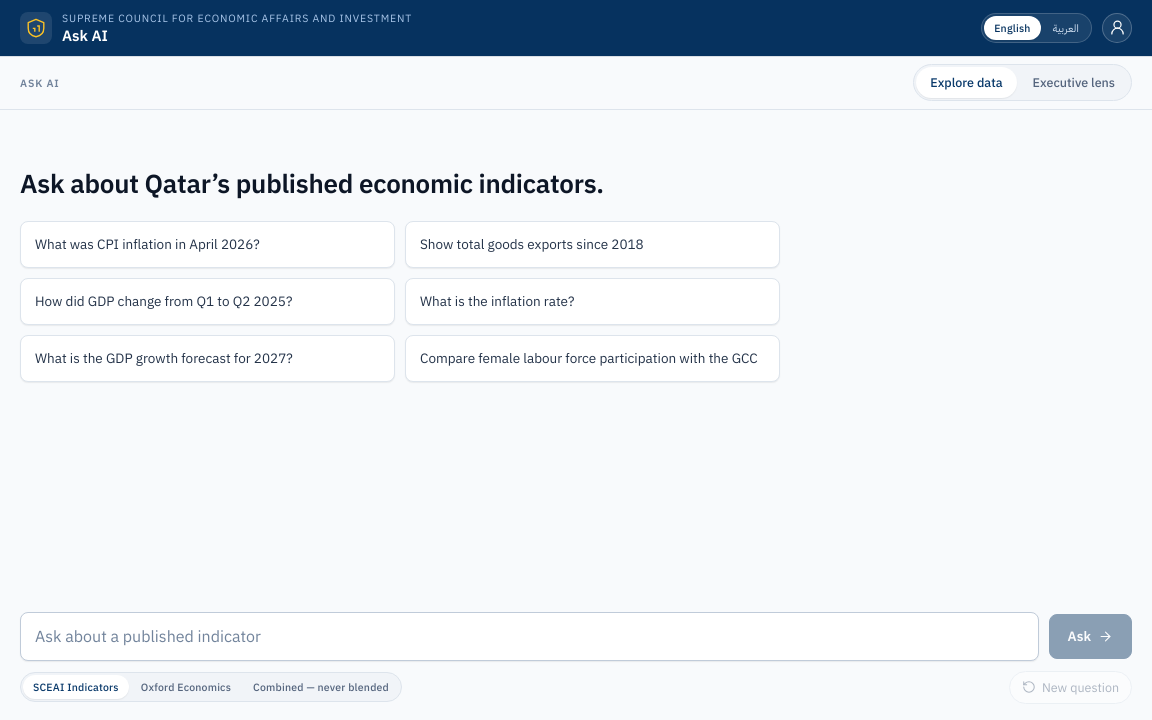
Test: every state is reachable by typing › How did GDP change from Q1 to Q2 2025?
The image size is (1152, 720).
Type "How did GDP change from Q1 to Q2 2025?" into the field named "Your question" at (529, 636), box top-left (20, 612), bottom-right (1039, 661)
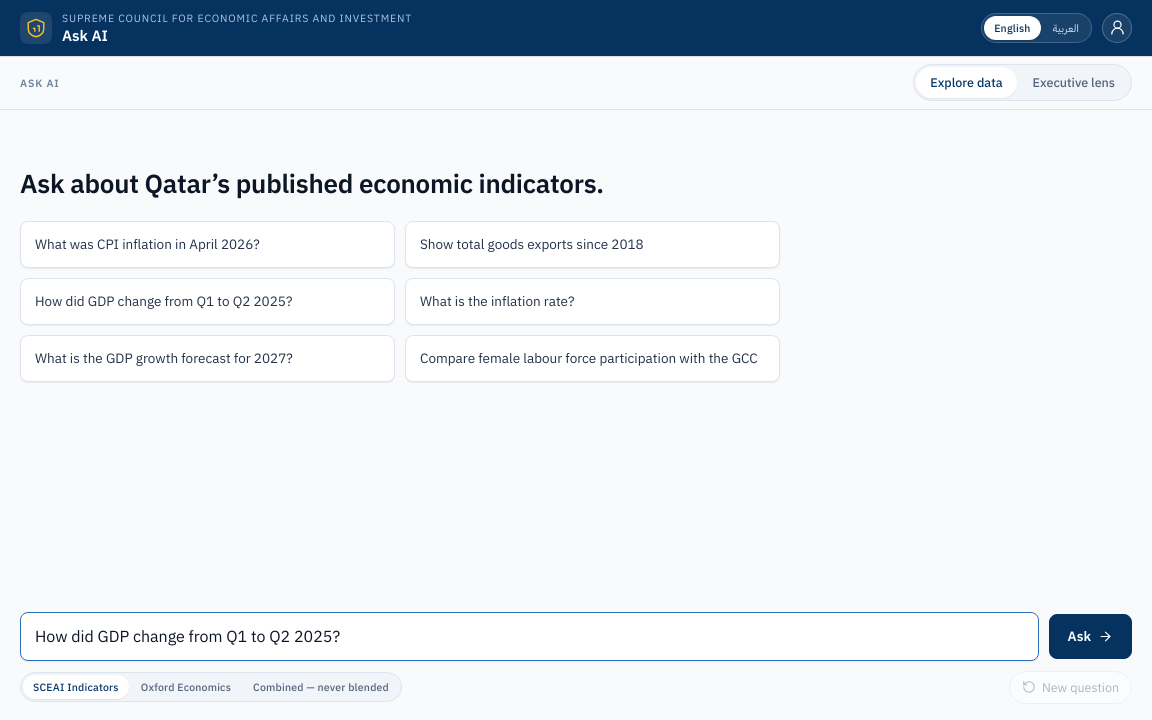
Click the button "Ask" at (1090, 636), box top-left (1049, 614), bottom-right (1132, 659)
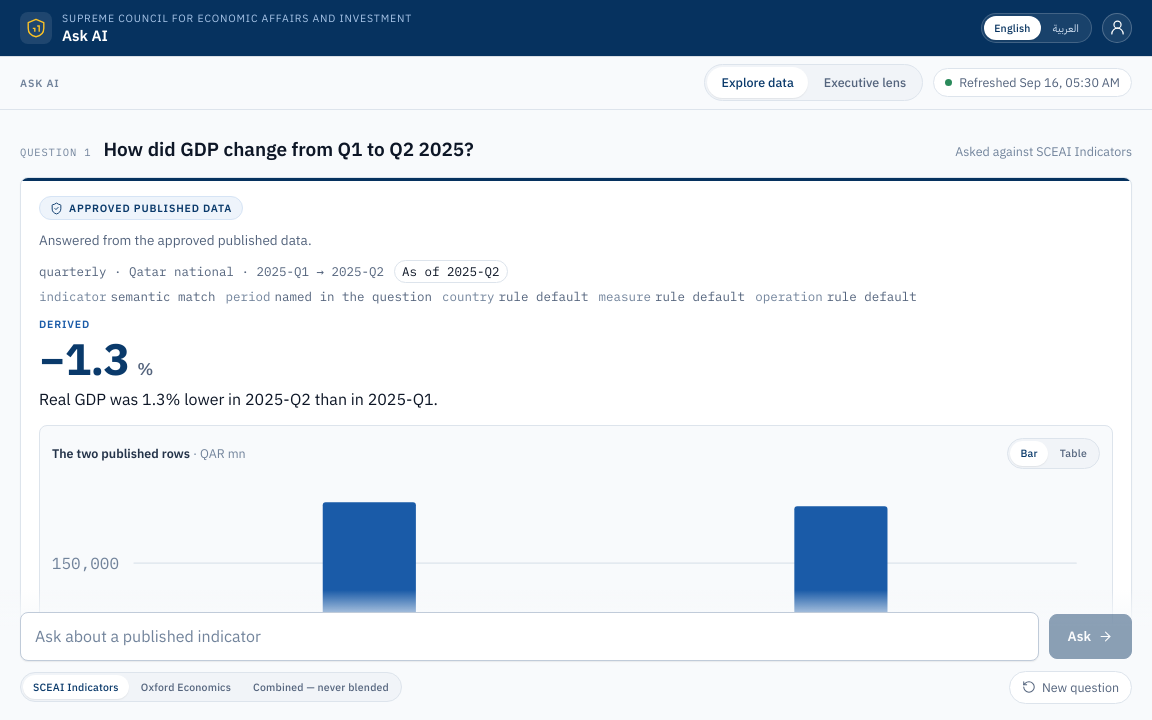
Result: the text "Real GDP was 1.3% lower in 2025-Q2 than in 2025-Q1." is shown at top-left (39, 389), bottom-right (438, 409)
